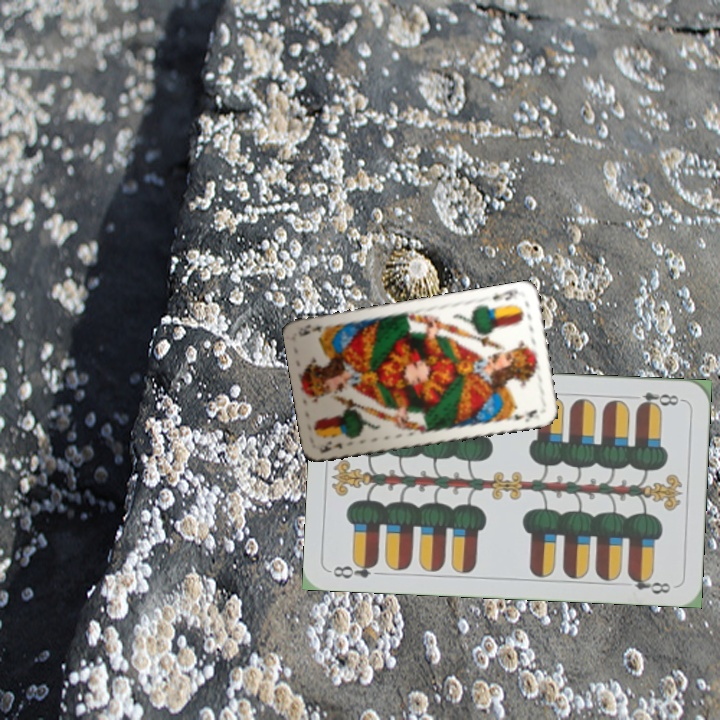E8: (329, 556, 381, 581), (633, 388, 685, 412)
EK: (489, 285, 521, 304), (316, 438, 344, 456)
